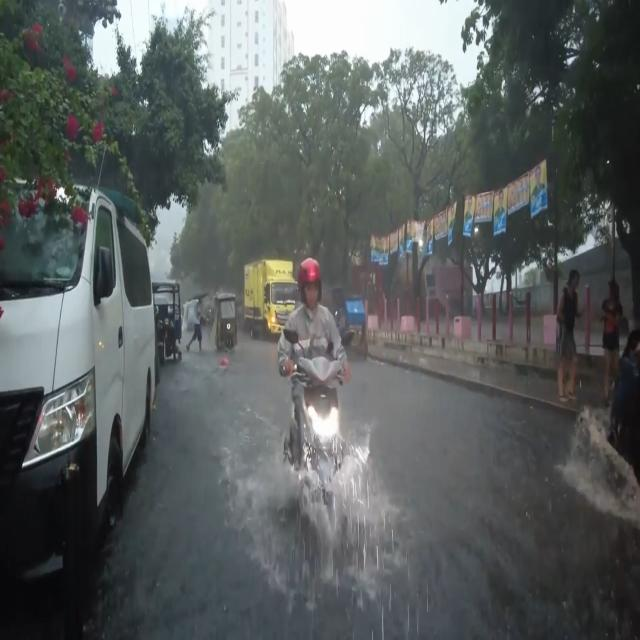half: (298, 257, 323, 305)
